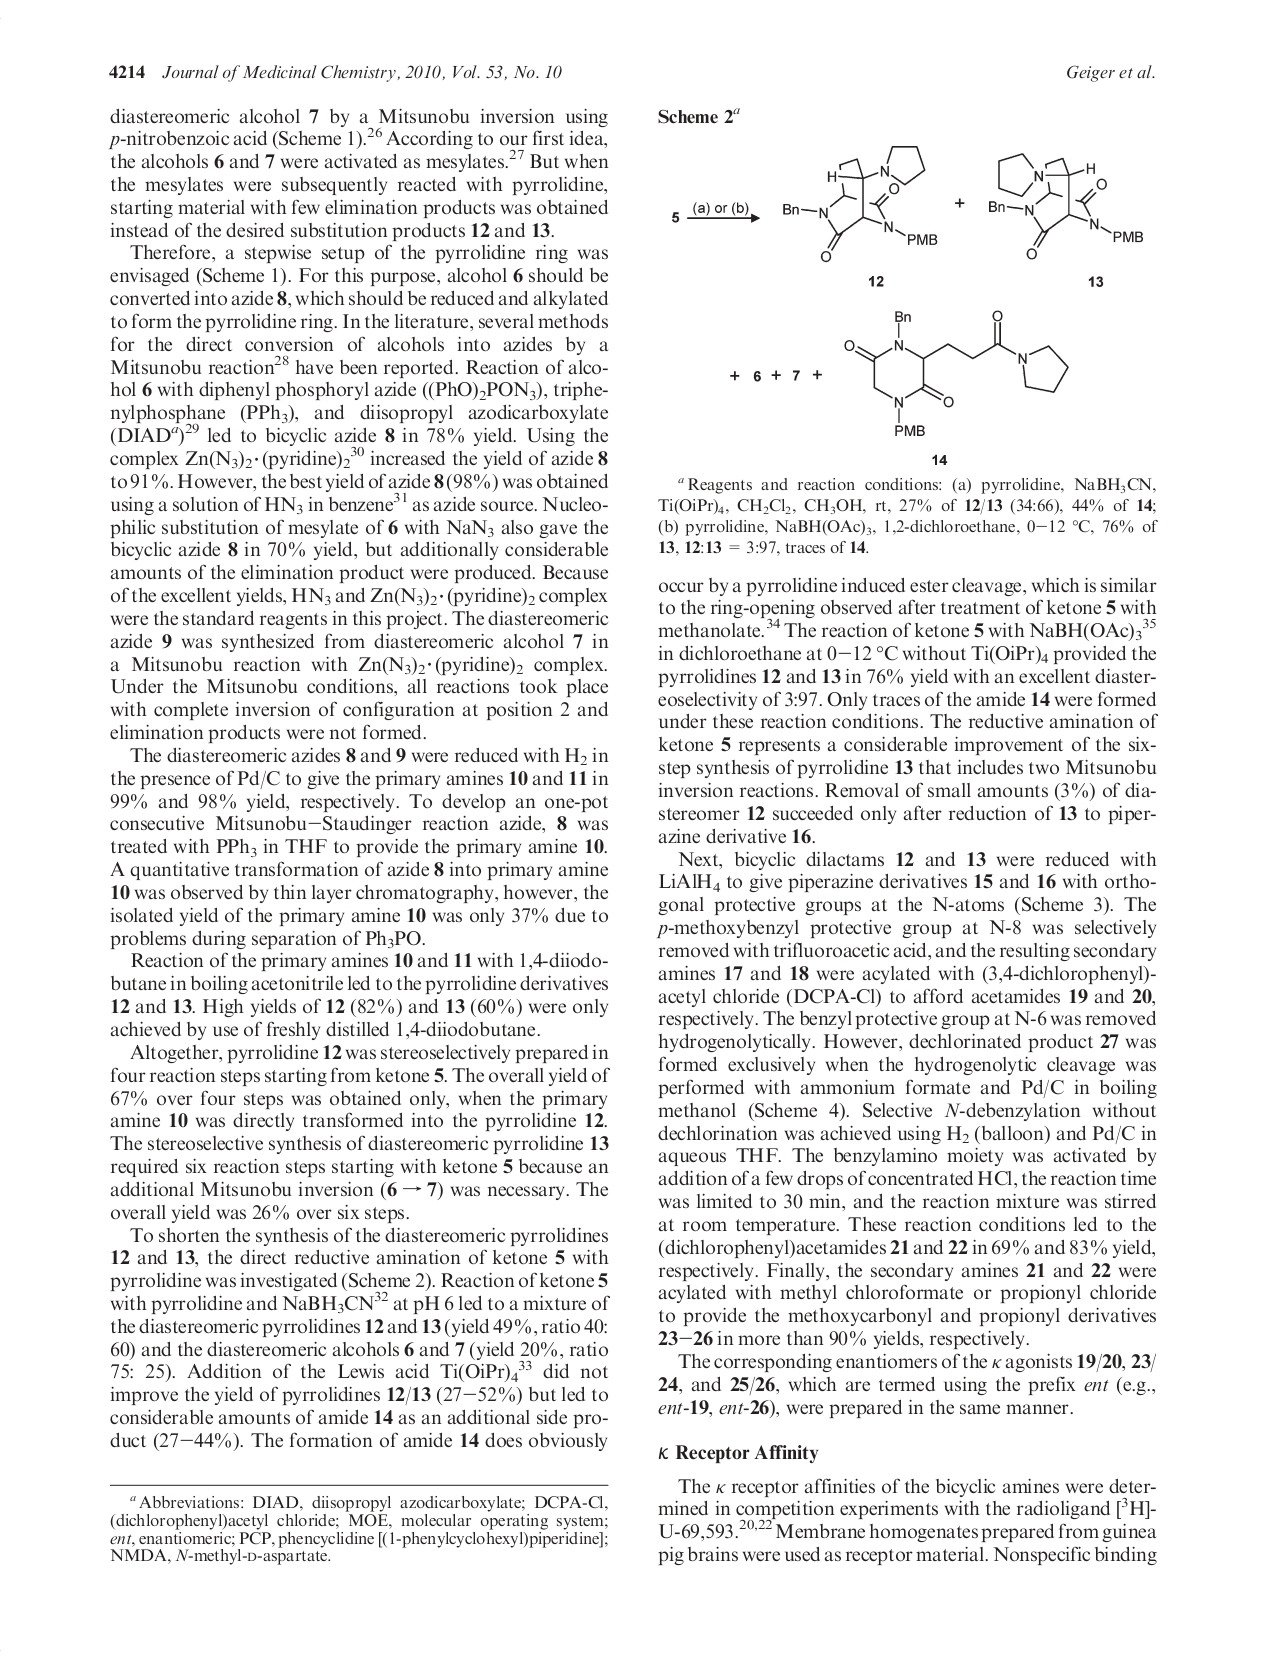exist_molecular: (840, 301, 1078, 442), (983, 144, 1160, 261), (775, 145, 949, 261)
